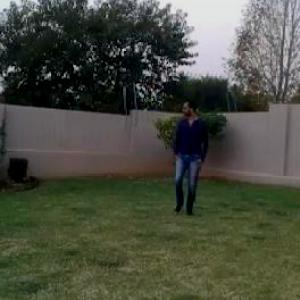follow: (169, 93, 206, 216)
